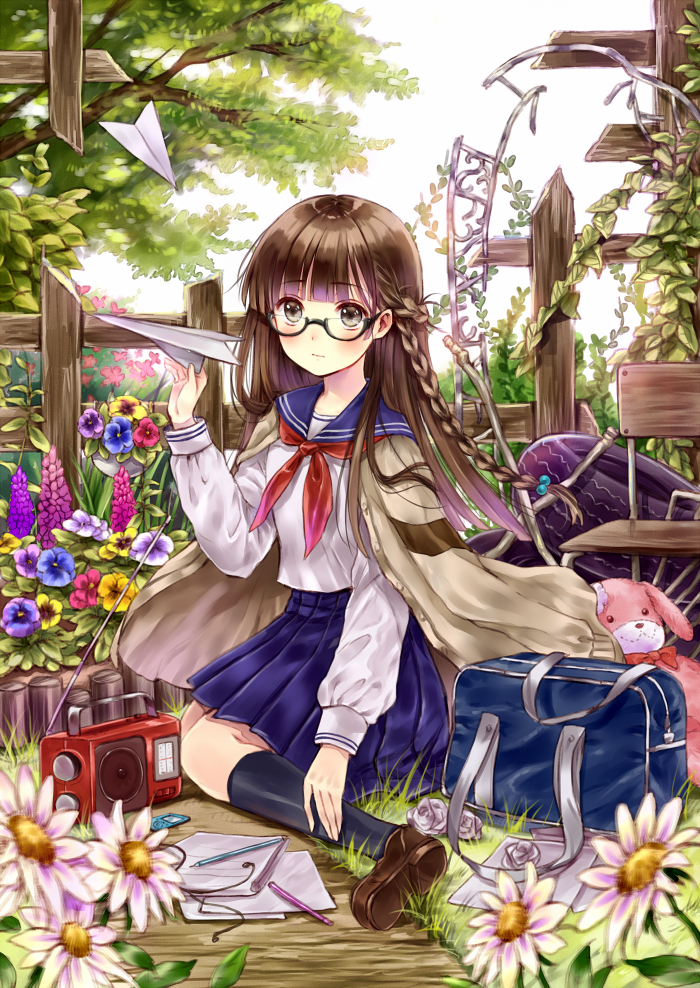纸片人正脸: (238, 194, 420, 386)
